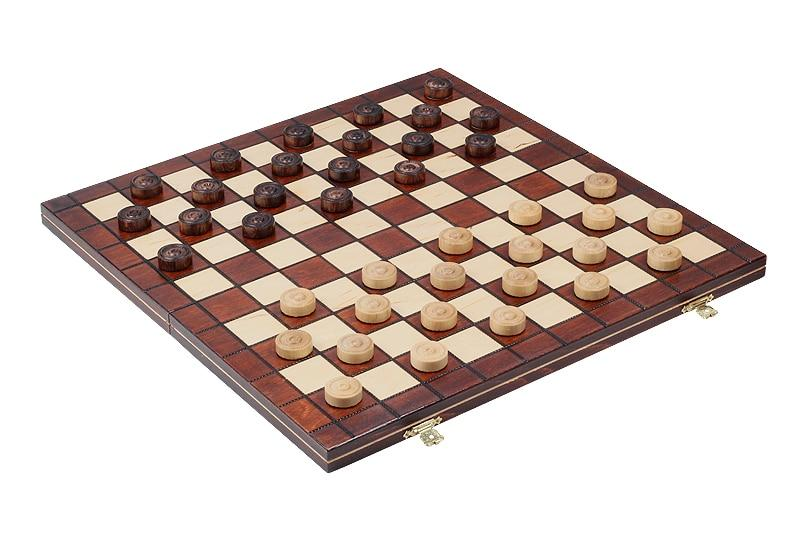dammen: (38, 65, 768, 472), (408, 338, 448, 372), (157, 243, 195, 275), (645, 242, 684, 273), (505, 235, 548, 263), (361, 258, 398, 290), (318, 184, 356, 215), (488, 307, 526, 338), (419, 302, 458, 332), (130, 170, 166, 202), (575, 270, 611, 302), (572, 235, 608, 267), (354, 294, 392, 324), (336, 334, 375, 363), (242, 211, 277, 243), (328, 375, 363, 407), (279, 286, 315, 317), (500, 265, 537, 295), (430, 261, 467, 290), (325, 155, 363, 183), (116, 205, 153, 233), (437, 227, 474, 255), (276, 328, 313, 356), (190, 178, 225, 207), (253, 180, 288, 208), (210, 146, 243, 175), (648, 207, 682, 235), (392, 158, 425, 186), (178, 208, 211, 235), (272, 152, 305, 179), (342, 125, 371, 155), (468, 105, 501, 131), (585, 172, 618, 198), (582, 203, 615, 229), (508, 199, 542, 224), (422, 74, 452, 102), (403, 132, 435, 158), (355, 98, 384, 126), (284, 122, 313, 148), (412, 103, 442, 127), (465, 135, 497, 157)
